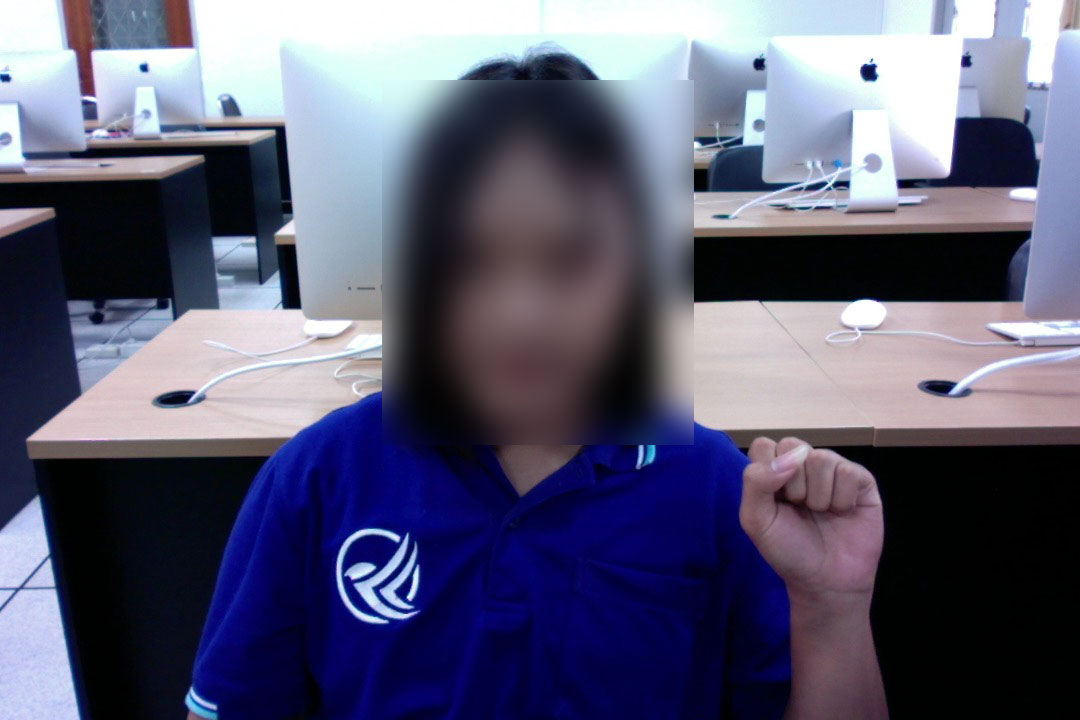sor: (731, 426, 890, 616)
